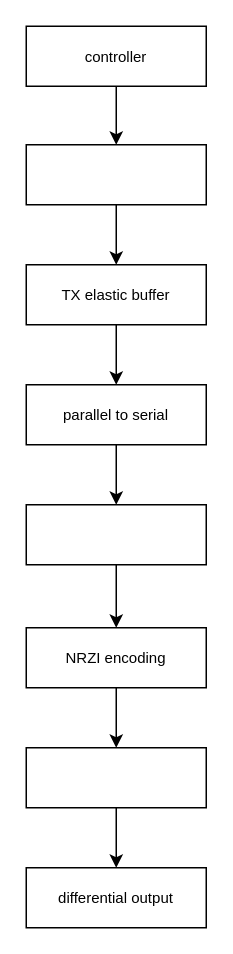
This 233x954 diagram has some shape labels left out. Each missing label, with the centre of its shape:
bit stuffing: the point at 115,534
line drivers: the point at 115,777
UTMI interface: the point at 115,174
